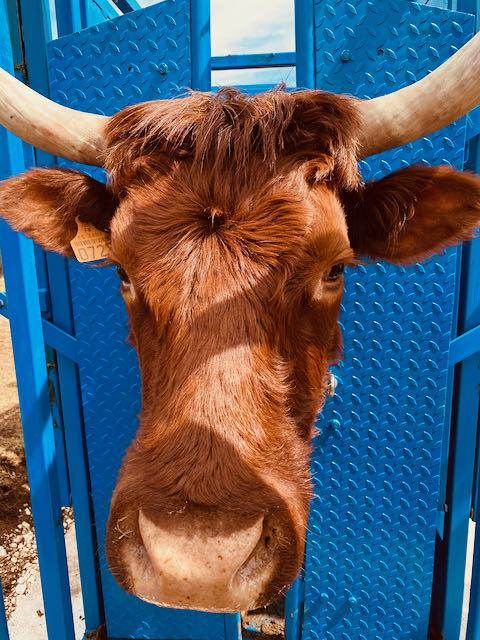muzzles: (104, 496, 301, 615)
